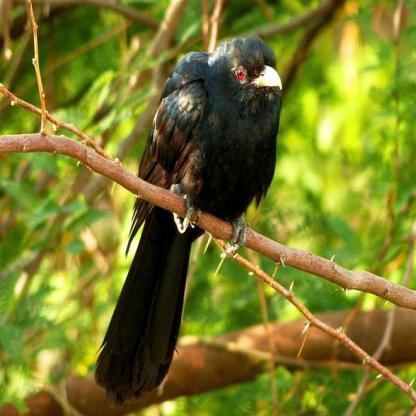Burung: (95, 38, 281, 410)
